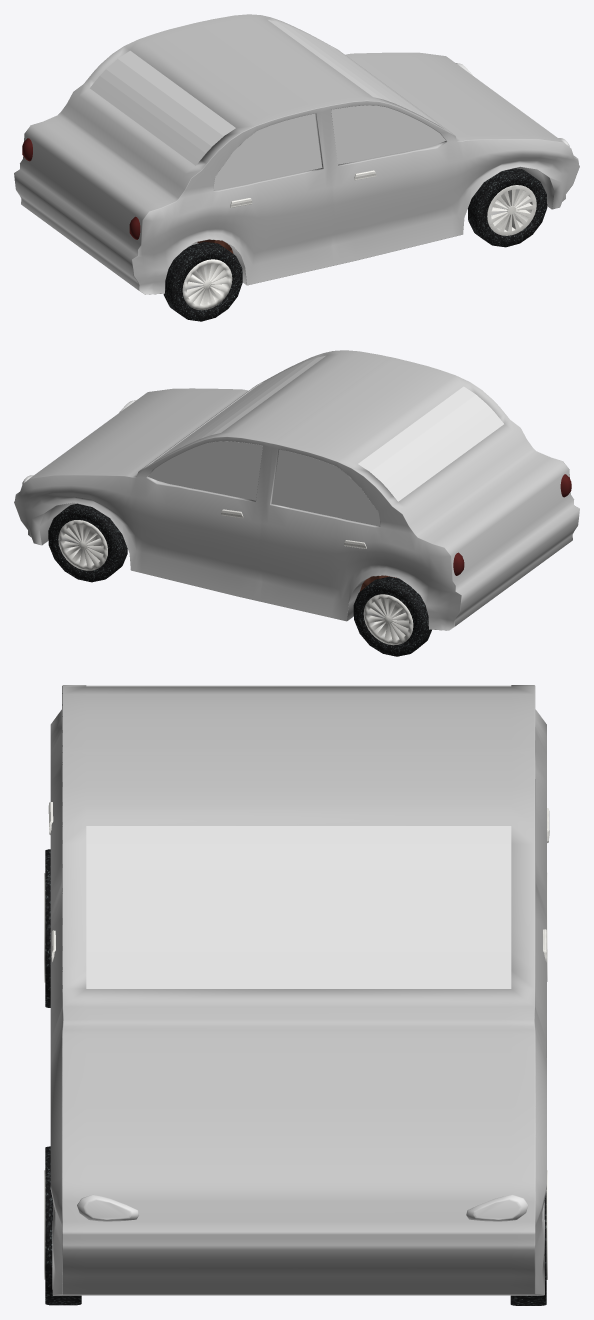
The model's file is car.fbx.
3 renders of one model, top to bottom at view 1: azimuth 30°, elevation 25°; view 2: azimuth 150°, elevation 25°; view 3: azimuth 270°, elevation 25°, orthographic. The views are drawn at different scales.
Visible parts, largest first — view 1: NewCarBody, SideWindows, BackWV2, RubberWheel.001, RubberWheel, FrontW1, Rhine.001, Rhine; view 2: NewCarBody, SideWindows, BackWV2, RubberWheel.003, RubberWheel.002, FrontW1, Rhine.003, Rhine.002; view 3: NewCarBody, FrontW1, Cylinder, RubberWheel, RubberWheel.001, BackWV2.
Boxes of the visible parts, box(x1,y1,x2,y2) form: NewCarBody: box(14, 14, 579, 294); SideWindows: box(213, 105, 445, 189); BackWV2: box(90, 50, 235, 165); RubberWheel.001: box(163, 241, 242, 321); RubberWheel: box(468, 168, 547, 247); FrontW1: box(268, 20, 440, 126); Rhine.001: box(182, 259, 232, 310); Rhine: box(487, 185, 536, 235); NewCarBody: box(14, 350, 579, 630); SideWindows: box(148, 441, 380, 525); BackWV2: box(358, 386, 503, 501); RubberWheel.003: box(353, 576, 431, 656); RubberWheel.002: box(48, 503, 127, 582); FrontW1: box(154, 355, 325, 461); Rhine.003: box(363, 594, 413, 645); Rhine.002: box(58, 520, 107, 570); NewCarBody: box(50, 685, 546, 1295); FrontW1: box(86, 826, 511, 988); Cylinder: box(77, 1194, 528, 1221); RubberWheel: box(45, 1146, 81, 1305); RubberWheel.001: box(45, 849, 50, 1007); BackWV2: box(86, 685, 511, 686).
Bounding box in the file's own units: 387 × 189 × 150.
